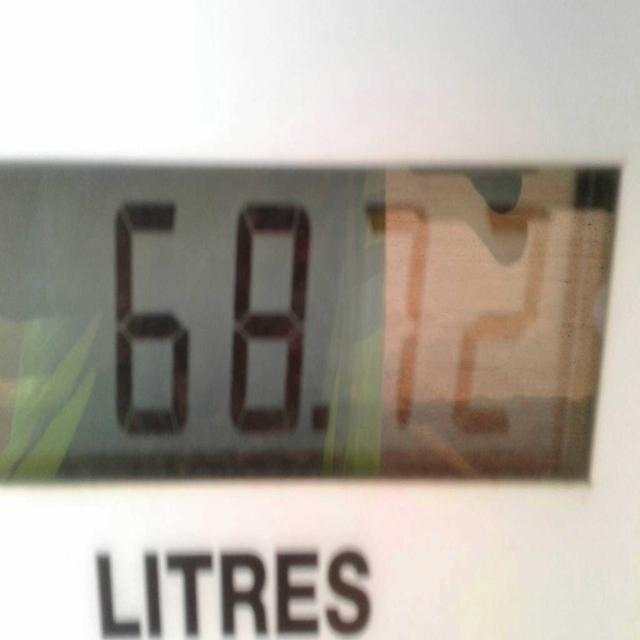.: (313, 404, 330, 436)
2: (456, 202, 538, 438)
6: (117, 202, 193, 433)
7: (360, 196, 428, 423)
8: (234, 204, 310, 429)
